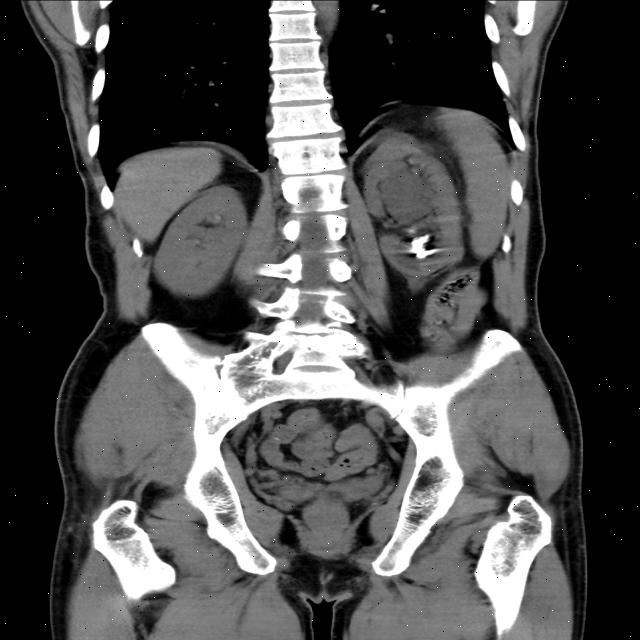kidneystone: (411, 234, 435, 259)
